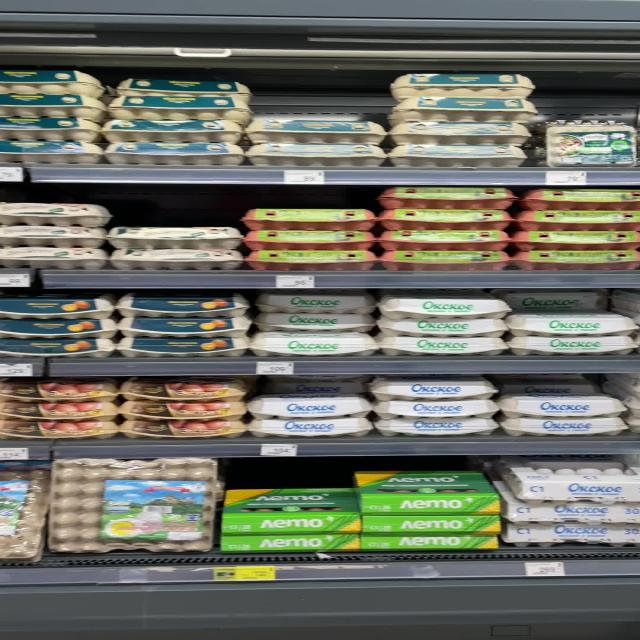egg box: (48, 457, 220, 554), (218, 486, 362, 535), (354, 468, 500, 513), (493, 456, 636, 501), (493, 481, 637, 524), (387, 98, 545, 130), (390, 72, 535, 104), (108, 95, 255, 123), (115, 76, 250, 105), (251, 331, 376, 360), (246, 119, 385, 145), (379, 293, 512, 320), (104, 119, 246, 144), (392, 120, 532, 145), (116, 334, 249, 360), (108, 225, 243, 250), (116, 292, 251, 317), (511, 311, 636, 338), (388, 145, 528, 169), (246, 144, 385, 168), (378, 185, 517, 209), (240, 207, 376, 231), (119, 314, 254, 338), (104, 142, 244, 165), (122, 379, 250, 404), (0, 291, 114, 319), (371, 376, 498, 401), (249, 394, 371, 420), (501, 394, 626, 419), (378, 248, 508, 272), (508, 334, 636, 358), (120, 416, 248, 440), (380, 208, 512, 231), (1, 376, 122, 401), (249, 414, 374, 438), (0, 68, 106, 96), (501, 524, 639, 545), (360, 513, 504, 533), (374, 397, 499, 420), (500, 416, 630, 438), (110, 249, 246, 270), (376, 414, 500, 437), (377, 336, 505, 358), (0, 316, 117, 340), (512, 230, 639, 252), (244, 230, 376, 251), (1, 202, 112, 226), (255, 292, 376, 314), (1, 336, 116, 359), (378, 230, 510, 250), (520, 188, 638, 210), (0, 94, 108, 118), (217, 532, 361, 550), (356, 532, 500, 550), (247, 250, 376, 270), (0, 223, 106, 247), (516, 210, 637, 231), (509, 251, 636, 271), (0, 116, 101, 141), (1, 400, 120, 421), (379, 318, 509, 337), (0, 417, 117, 438), (124, 402, 246, 422), (1, 246, 109, 268), (258, 312, 375, 332), (1, 142, 102, 162), (506, 290, 606, 310)
